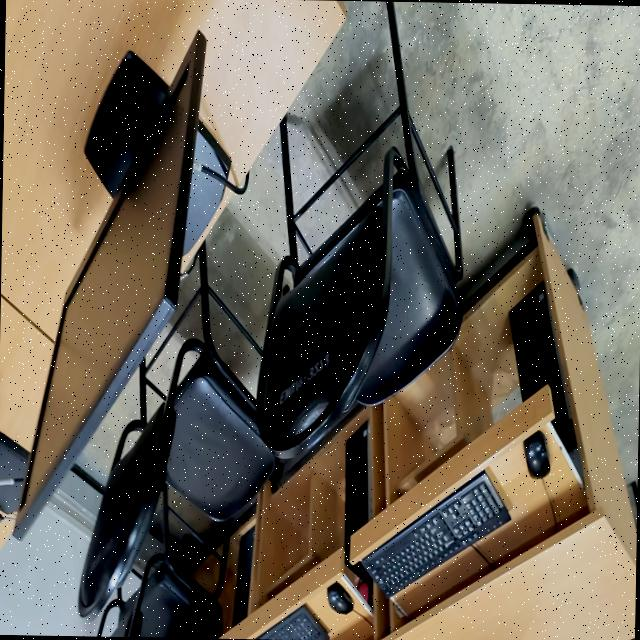Chair: (256, 2, 463, 457), (78, 243, 275, 617), (98, 487, 231, 638)
Cpu: (509, 282, 582, 476), (344, 420, 372, 605), (233, 526, 254, 624)
Keyboard: (362, 471, 510, 596), (255, 604, 329, 640)
Monitor: (12, 31, 244, 539)
Mouse: (523, 431, 549, 479), (327, 582, 353, 614)
